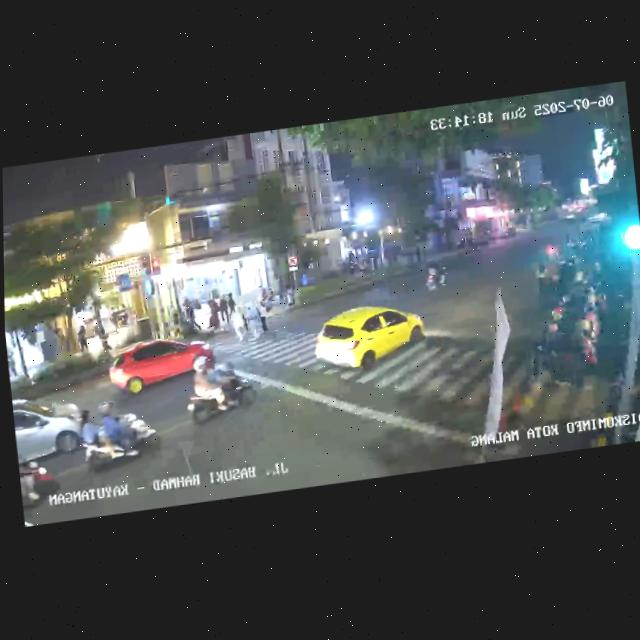car: (310, 299, 426, 384), (104, 332, 208, 401), (12, 392, 89, 479)
motorcycle: (74, 394, 163, 477), (178, 347, 257, 431), (18, 450, 62, 519), (533, 241, 567, 290), (422, 258, 450, 293)
person: (245, 301, 261, 339), (205, 300, 220, 337), (231, 305, 245, 342), (184, 298, 198, 333), (75, 321, 89, 354), (97, 322, 111, 355), (217, 292, 230, 327), (258, 300, 270, 336), (6, 347, 18, 379), (284, 279, 295, 310), (225, 291, 237, 317)
